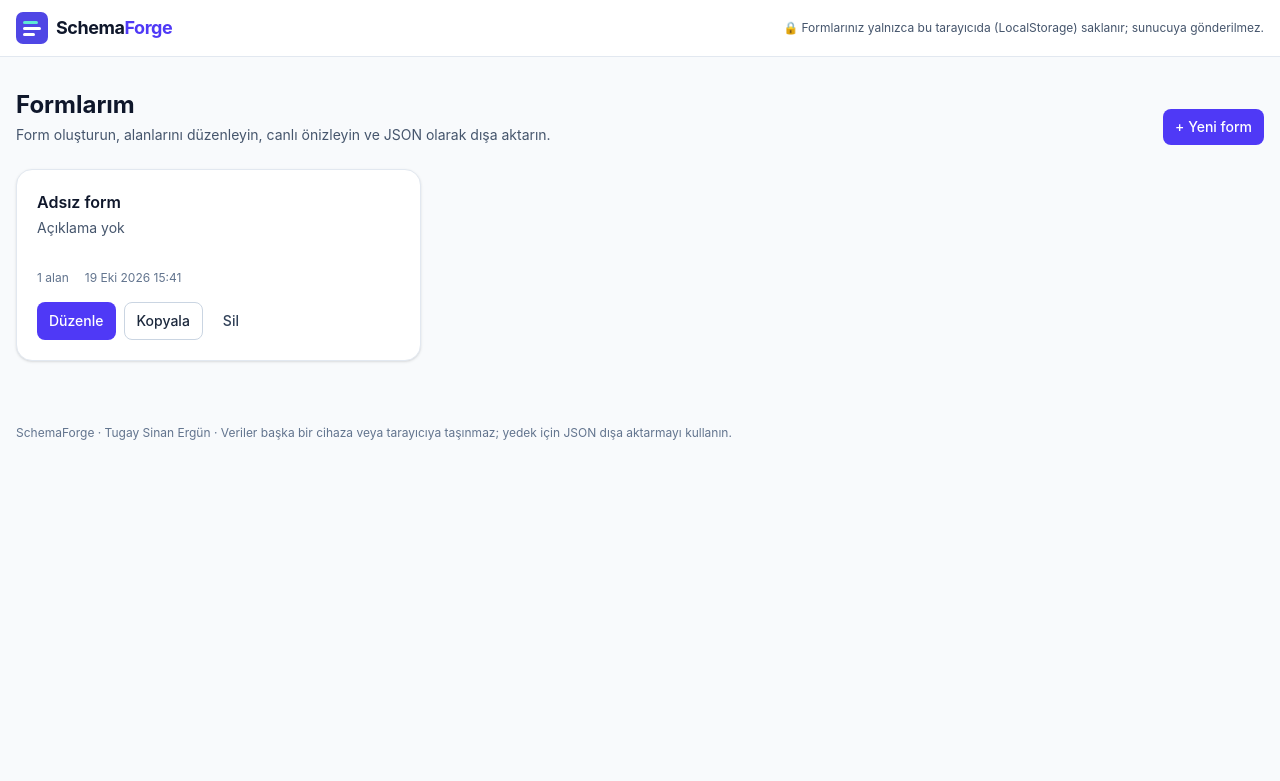
Test: SchemaForge user scenarios › BUG-010: empty titles and labels still give meaningful button names
Expected: the button with aria-label "Adsız form formunu sil" is shown, [211, 302, 251, 340]
Click the button with aria-label "Adsız form formunu düzenle" at (76, 321), box [37, 302, 116, 340]
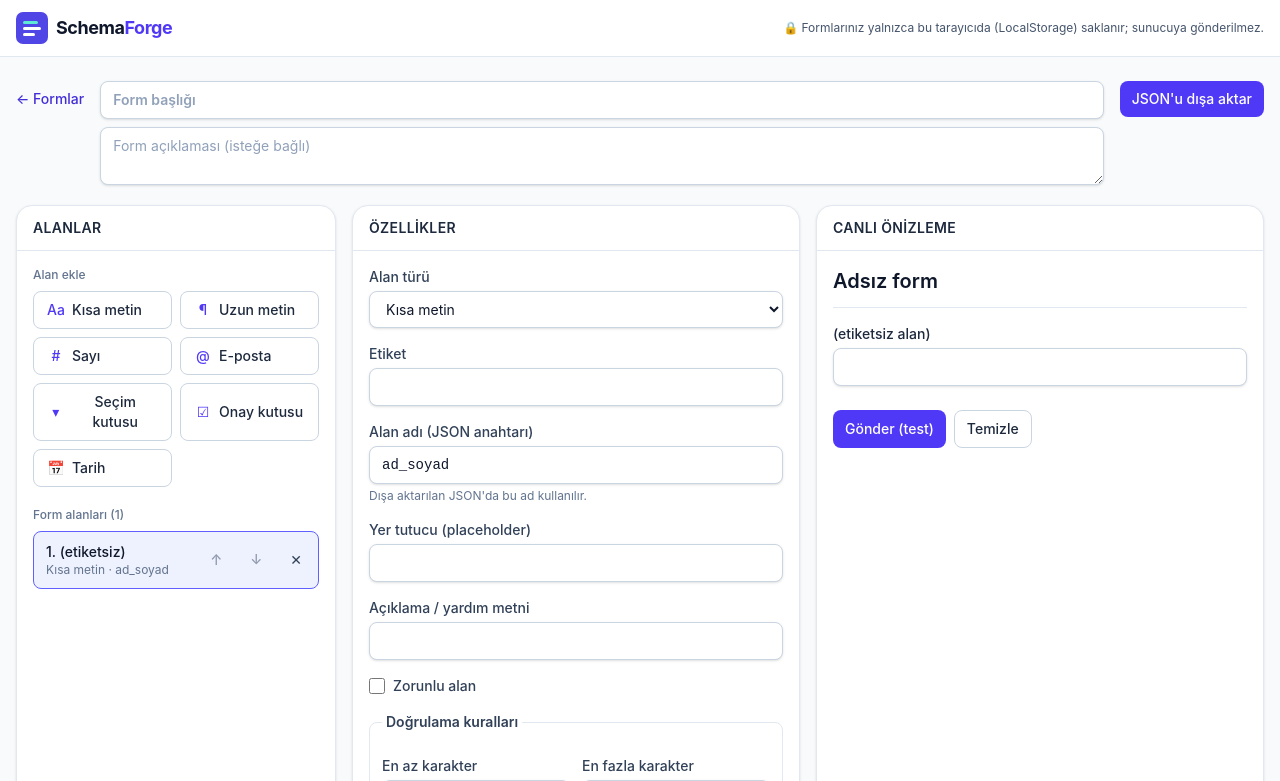
Now the button named "(etiketsiz) alanını sil" is shown, box [278, 542, 314, 578]
